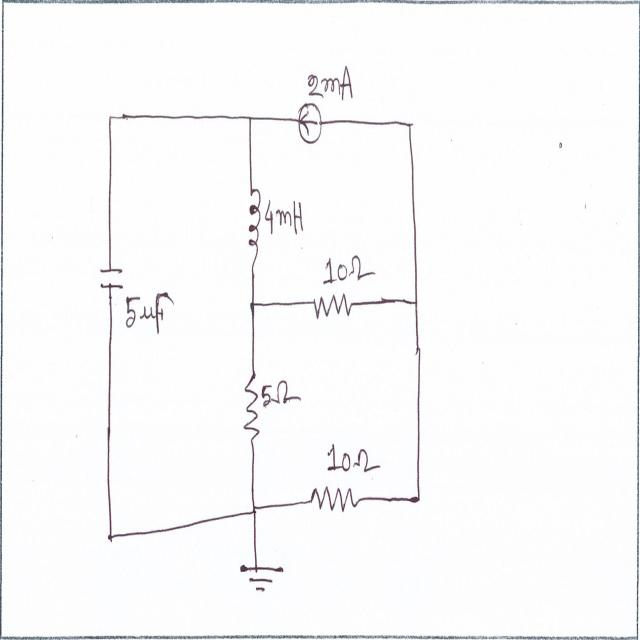capacitor: (93, 258, 127, 296)
current_source: (297, 100, 322, 146)
ground: (238, 553, 286, 597)
inductor: (247, 185, 265, 267)
resistor: (309, 482, 360, 518), (239, 371, 262, 447), (311, 290, 359, 324)
